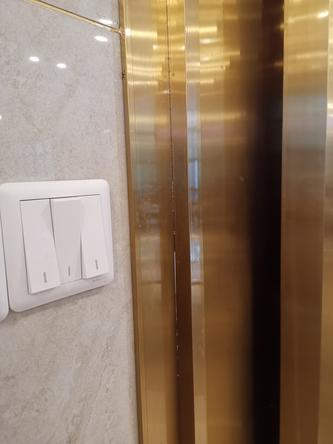switch: (17, 194, 62, 294), (46, 194, 85, 284), (75, 190, 110, 281)
